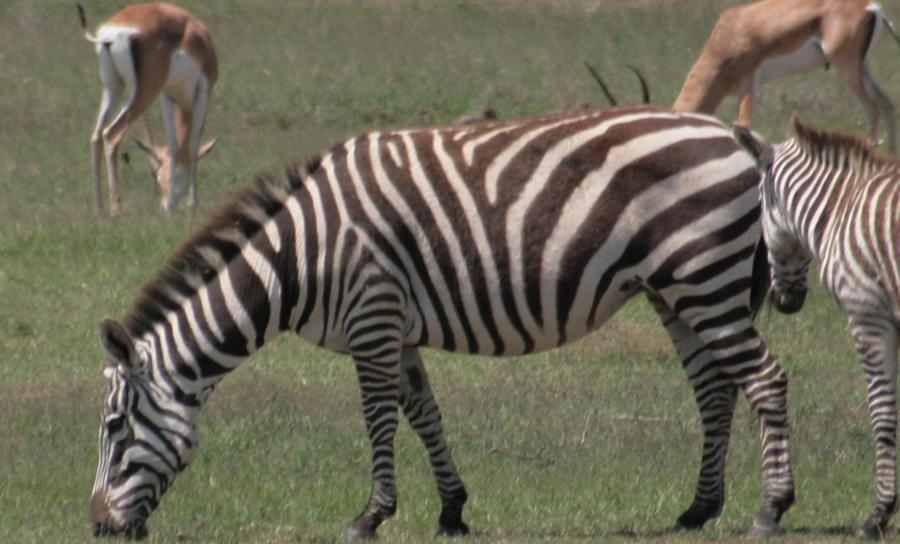zebra_plains: (250, 91, 795, 352)
